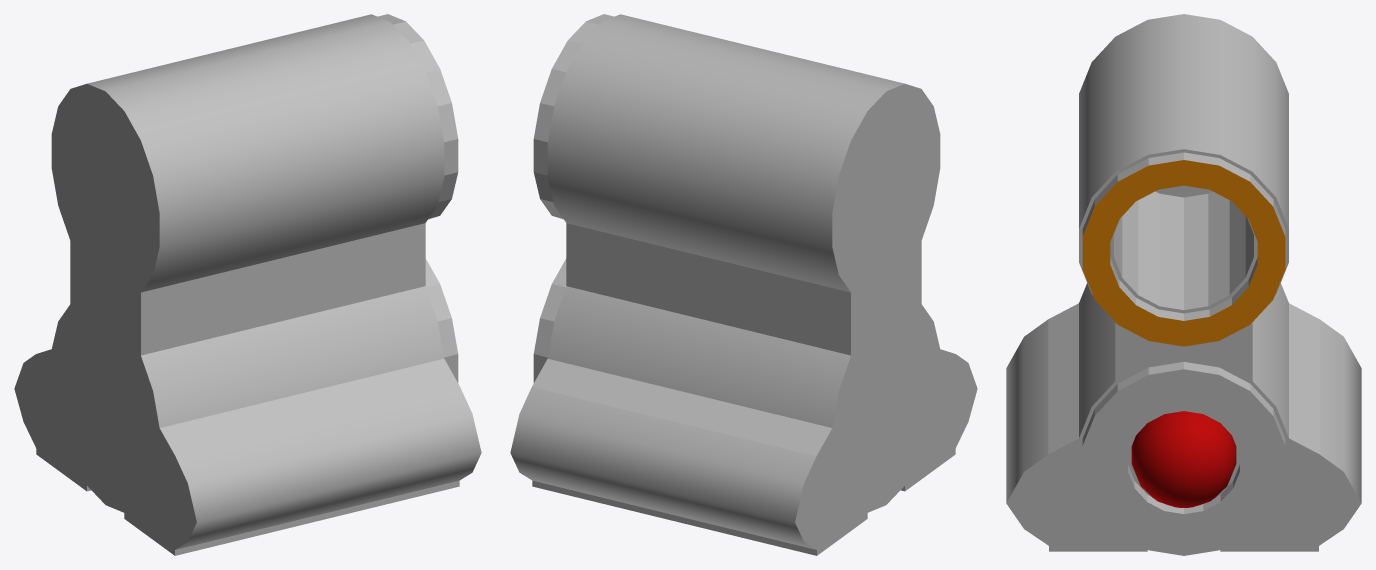
The model's file is 220130_modelTank_001.fbx.
3 renders of one model, left to right at view 1: azimuth 30°, elevation 25°; view 2: azimuth 150°, elevation 25°; view 3: azimuth 270°, elevation 25°, orthographic. The views are drawn at different scales.
Visible parts, largest first — view 1: tankBody_001; view 2: tankBody_001; view 3: tankBody_001, tankWeakPoint_001.
Boxes of the visible parts, left/top/right/bottom form: tankBody_001: left=14, top=14, right=481, bottom=555; tankBody_001: left=510, top=14, right=977, bottom=555; tankBody_001: left=1006, top=14, right=1361, bottom=555; tankWeakPoint_001: left=1131, top=411, right=1236, bottom=507.
Bounding box in the file's own units: 105 × 125 × 100.
